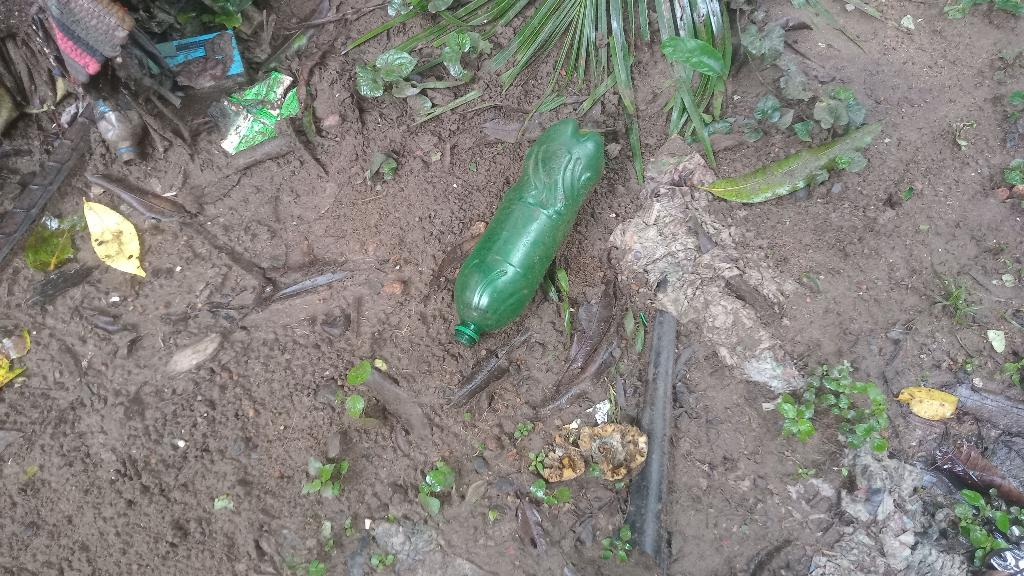garbage: (465, 102, 588, 373)
